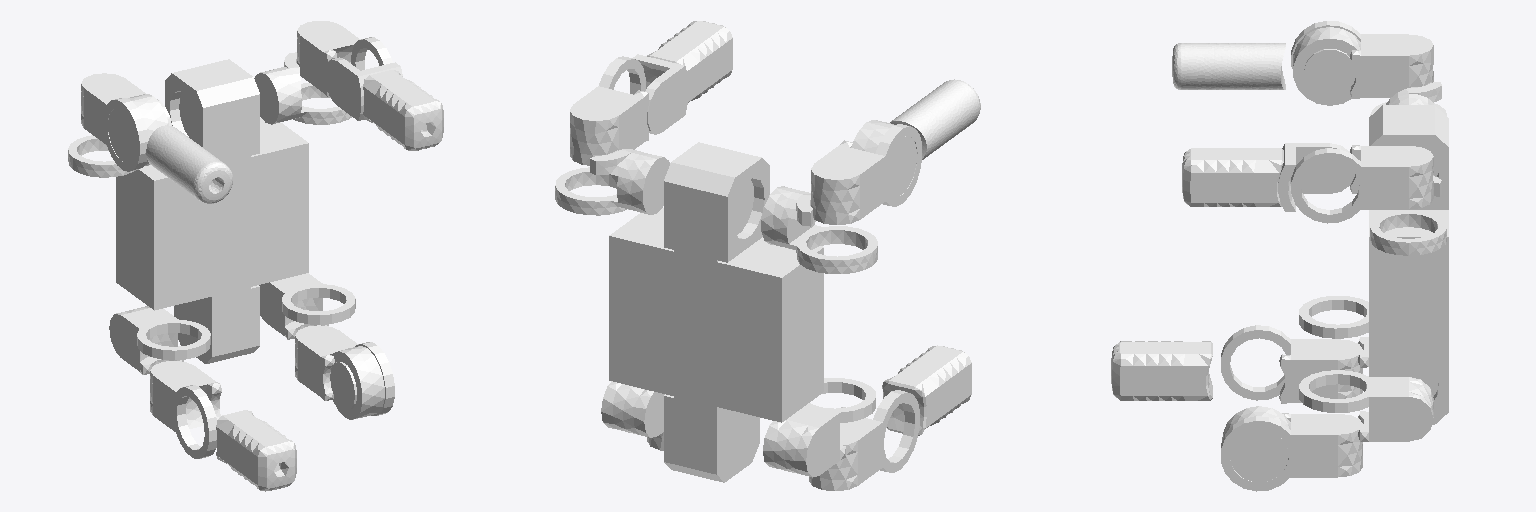
--- What the picture shows (computed from the rendered views, not written in the file) ---
The picture shows the robot from 3 angles, left to right: view 1: azimuth 30°, elevation 25°; view 2: azimuth 150°, elevation 25°; view 3: azimuth 270°, elevation 25°; orthographic projection.
Model robot with 33 links and 32 joints (12 revolute, 20 fixed), rooted at body, posed every joint at zero.
Links seen in each view (by area): view 1: body, rb_thigh, rb_shank, lf_shank, rb_hip, lb_hip, rf_shank, rf_thigh, lb_thigh, lf_thigh, lf_hip, lb_shank_motor (+6 smaller); view 2: body, rf_thigh, lf_thigh, rb_hip, rf_hip, lf_hip, rb_thigh, rb_shank, lf_shank, rf_shank, rf_hip_board, lf_shank_board (+4 smaller); view 3: body, lf_thigh, lb_thigh, lb_hip, rb_shank, lf_shank, rb_thigh, rf_shank, rf_thigh, rf_shank_motor, lb_shank_motor, lf_hip (+5 smaller).
Link boxes in pixels (x1,y1,x2,y2): body: [116, 61, 308, 363]; rb_thigh: [150, 361, 221, 458]; rb_shank: [216, 410, 296, 491]; lf_shank: [363, 70, 443, 150]; rb_hip: [109, 306, 210, 374]; lb_hip: [259, 273, 355, 339]; rf_shank: [146, 125, 232, 203]; rf_thigh: [81, 73, 148, 171]; lb_thigh: [295, 325, 394, 415]; lf_thigh: [297, 21, 392, 96]; lf_hip: [254, 52, 351, 124]; lb_shank_motor: [330, 346, 384, 419]; body: [609, 145, 823, 482]; rf_thigh: [811, 124, 921, 224]; lf_thigh: [570, 56, 649, 165]; rb_hip: [763, 378, 875, 477]; rf_hip: [761, 186, 877, 273]; lf_hip: [555, 149, 669, 215]; rb_thigh: [809, 390, 919, 490]; rb_shank: [882, 345, 971, 435]; lf_shank: [647, 21, 732, 102]; rf_shank: [890, 79, 980, 159]; rf_hip_board: [717, 155, 769, 262]; lf_shank_board: [633, 54, 688, 134]; body: [1369, 110, 1448, 396]; lf_thigh: [1291, 145, 1433, 223]; lb_thigh: [1221, 413, 1362, 491]; lb_hip: [1299, 370, 1433, 441]; rb_shank: [1111, 341, 1212, 400]; lf_shank: [1182, 148, 1283, 206]; rb_thigh: [1221, 325, 1362, 403]; rf_shank: [1172, 43, 1285, 89]; rf_thigh: [1291, 21, 1433, 98]; rf_shank_motor: [1293, 27, 1360, 105]; lb_shank_motor: [1222, 406, 1290, 481]; lf_hip: [1370, 175, 1446, 255].
Size in the robot's own frame: 0.361 by 0.3581 by 0.4178 metres.
18 mesh visuals loaded from 33 distinct referenced files (18 OBJ); not drawn: 15 (reference not matched to a file when rendering).

URDF robot description (robot):
<?xml version='1.0' encoding='UTF-8'?>
<robot name="robot">
  <link name="body">
    <inertial>
      <origin xyz="0.0 0.0 0.0" rpy="0.0 0.0 0.0"/>
      <mass value="1.0196898000000187"/>
      <inertia ixx="0.008485755511900806" ixy="9.44441736189342e-21" ixz="-1.322218430663828e-16" iyy="0.010755228463150602" iyz="-3.667695375376558e-20" izz="0.004121125018749809"/>
    </inertial>
    <visual>
      <origin xyz="0.0 0.0 0.0" rpy="0.0 0.0 0.0"/>
      <geometry>
        <mesh filename="mesh/body.obj"/>
      </geometry>
      <material name="#ffffffff">
        <color rgba="1 1 1 1"/>
      </material>
    </visual>
    <collision>
      <origin xyz="0.0 0.0 0.0" rpy="0.0 0.0 0.0"/>
      <geometry>
        <mesh filename="mesh/body.obj"/>
      </geometry>
    </collision>
  </link>
  <link name="lf_hip_board">
    <inertial>
      <origin xyz="0.0 0.0 0.0" rpy="0.0 0.0 0.0"/>
      <mass value="0.008725226571447621"/>
      <inertia ixx="1.5000064084470432e-05" ixy="1.3648480107124957e-23" ixz="-4.192813088908787e-23" iyy="7.301834886894701e-06" iyz="1.777794129836735e-22" izz="7.907634635290474e-06"/>
    </inertial>
    <visual>
      <origin xyz="0.0 0.0 0.0" rpy="0.0 0.0 0.0"/>
      <geometry>
        <mesh filename="mesh/lf_hip_board.obj"/>
      </geometry>
      <material name="#ffffffff">
        <color rgba="1 1 1 1"/>
      </material>
    </visual>
    <collision>
      <origin xyz="0.0 0.0 0.0" rpy="0.0 0.0 0.0"/>
      <geometry>
        <mesh filename="mesh/lf_hip_board.obj"/>
      </geometry>
    </collision>
  </link>
  <link name="lf_hip_motor">
    <inertial>
      <origin xyz="0.0 0.0 0.0" rpy="0.0 0.0 0.0"/>
      <mass value="0.47999996968676256"/>
      <inertia ixx="0.00033537419501531124" ixy="1.8058235803533032e-08" ixz="1.946249097096912e-21" iyy="0.00023196277740878066" iyz="-5.234141687550622e-21" izz="0.00023212625467569964"/>
    </inertial>
    <visual>
      <origin xyz="0.0 0.0 0.0" rpy="0.0 0.0 0.0"/>
      <geometry>
        <mesh filename="mesh/lf_hip_motor.obj"/>
      </geometry>
      <material name="#ffffffff">
        <color rgba="1 1 1 1"/>
      </material>
    </visual>
    <collision>
      <origin xyz="0.0 0.0 0.0" rpy="0.0 0.0 0.0"/>
      <geometry>
        <mesh filename="mesh/lf_hip_motor.obj"/>
      </geometry>
    </collision>
  </link>
  <link name="lf_hip">
    <inertial>
      <origin xyz="0.0 0.0 0.0" rpy="0.0 0.0 0.0"/>
      <mass value="0.022572853506616163"/>
      <inertia ixx="1.4628043950933668e-05" ixy="-4.721900627891241e-06" ixz="-3.5337712296101637e-07" iyy="2.6099692210438463e-05" iyz="6.102303092002736e-07" izz="2.523335634963714e-05"/>
    </inertial>
    <visual>
      <origin xyz="0.0 0.0 0.0" rpy="0.0 0.0 0.0"/>
      <geometry>
        <mesh filename="mesh/lf_hip.obj"/>
      </geometry>
      <material name="#ffffffff">
        <color rgba="1 1 1 1"/>
      </material>
    </visual>
    <collision>
      <origin xyz="0.0 0.0 0.0" rpy="0.0 0.0 0.0"/>
      <geometry>
        <mesh filename="mesh/lf_hip.obj"/>
      </geometry>
    </collision>
  </link>
  <link name="lf_thigh_motor">
    <inertial>
      <origin xyz="0.0 0.0 0.0" rpy="0.0 0.0 0.0"/>
      <mass value="0.47999996968676256"/>
      <inertia ixx="0.00033537419501531124" ixy="1.8058235803533032e-08" ixz="1.946249097096912e-21" iyy="0.00023196277740878066" iyz="-5.234141687550622e-21" izz="0.00023212625467569964"/>
    </inertial>
    <visual>
      <origin xyz="0.0 0.0 0.0" rpy="0.0 0.0 0.0"/>
      <geometry>
        <mesh filename="mesh/lf_thigh_motor.obj"/>
      </geometry>
      <material name="#ffffffff">
        <color rgba="1 1 1 1"/>
      </material>
    </visual>
    <collision>
      <origin xyz="0.0 0.0 0.0" rpy="0.0 0.0 0.0"/>
      <geometry>
        <mesh filename="mesh/lf_thigh_motor.obj"/>
      </geometry>
    </collision>
  </link>
  <link name="lf_thigh">
    <inertial>
      <origin xyz="0.0 0.0 0.0" rpy="0.0 0.0 0.0"/>
      <mass value="0.036696481109002595"/>
      <inertia ixx="4.622587744859162e-05" ixy="1.4725018988049434e-09" ixz="6.876798986521272e-10" iyy="4.7178973972743224e-05" iyz="5.075776983802486e-06" izz="1.9185661977166144e-05"/>
    </inertial>
    <visual>
      <origin xyz="0.0 0.0 0.0" rpy="0.0 0.0 0.0"/>
      <geometry>
        <mesh filename="mesh/lf_thigh.obj"/>
      </geometry>
      <material name="#ffffffff">
        <color rgba="1 1 1 1"/>
      </material>
    </visual>
    <collision>
      <origin xyz="0.0 0.0 0.0" rpy="0.0 0.0 0.0"/>
      <geometry>
        <mesh filename="mesh/lf_thigh.obj"/>
      </geometry>
    </collision>
  </link>
  <link name="lf_shank_motor">
    <inertial>
      <origin xyz="0.0 0.0 0.0" rpy="0.0 0.0 0.0"/>
      <mass value="0.47999996968676256"/>
      <inertia ixx="0.00033537419501531124" ixy="1.8058235803533032e-08" ixz="1.946249097096912e-21" iyy="0.00023196277740878066" iyz="-5.234141687550622e-21" izz="0.00023212625467569964"/>
    </inertial>
    <visual>
      <origin xyz="0.0 0.0 0.0" rpy="0.0 0.0 0.0"/>
      <geometry>
        <mesh filename="mesh/lf_shank_motor.obj"/>
      </geometry>
      <material name="#ffffffff">
        <color rgba="1 1 1 1"/>
      </material>
    </visual>
    <collision>
      <origin xyz="0.0 0.0 0.0" rpy="0.0 0.0 0.0"/>
      <geometry>
        <mesh filename="mesh/lf_shank_motor.obj"/>
      </geometry>
    </collision>
  </link>
  <link name="lf_shank_board">
    <inertial>
      <origin xyz="0.0 0.0 0.0" rpy="0.0 0.0 0.0"/>
      <mass value="0.056098890610631585"/>
      <inertia ixx="4.3107530323764116e-05" ixy="-1.0206178393298328e-08" ixz="-1.1593919601266583e-05" iyy="4.374223625484103e-05" iyz="-6.692296060306e-10" izz="2.7647051296376768e-05"/>
    </inertial>
    <visual>
      <origin xyz="0.0 0.0 0.0" rpy="0.0 0.0 0.0"/>
      <geometry>
        <mesh filename="mesh/lf_shank_board.obj"/>
      </geometry>
      <material name="#ffffffff">
        <color rgba="1 1 1 1"/>
      </material>
    </visual>
    <collision>
      <origin xyz="0.0 0.0 0.0" rpy="0.0 0.0 0.0"/>
      <geometry>
        <mesh filename="mesh/lf_shank_board.obj"/>
      </geometry>
    </collision>
  </link>
  <link name="lf_shank">
    <inertial>
      <origin xyz="0.0 0.0 0.0" rpy="0.0 0.0 0.0"/>
      <mass value="0.043853773038341336"/>
      <inertia ixx="4.858260799731374e-05" ixy="6.748426215436112e-10" ixz="-1.3480763788086625e-08" iyy="4.652833332509344e-05" iyz="-1.0037779117800898e-09" izz="1.937056536520672e-05"/>
    </inertial>
    <visual>
      <origin xyz="0.0 0.0 0.0" rpy="0.0 0.0 0.0"/>
      <geometry>
        <mesh filename="mesh/lf_shank.obj"/>
      </geometry>
      <material name="#ffffffff">
        <color rgba="1 1 1 1"/>
      </material>
    </visual>
    <collision>
      <origin xyz="0.0 0.0 0.0" rpy="0.0 0.0 0.0"/>
      <geometry>
        <mesh filename="mesh/lf_shank.obj"/>
      </geometry>
    </collision>
  </link>
  <link name="rf_hip_board">
    <inertial>
      <origin xyz="0.0 0.0 0.0" rpy="0.0 0.0 0.0"/>
      <mass value="0.008725226571447621"/>
      <inertia ixx="1.500006408447043e-05" ixy="3.639594695233322e-23" ixz="3.5716555942556335e-23" iyy="7.301834886894701e-06" iyz="-1.7777941298367348e-22" izz="7.907634635290474e-06"/>
    </inertial>
    <visual>
      <origin xyz="0.0 0.0 0.0" rpy="0.0 0.0 0.0"/>
      <geometry>
        <mesh filename="mesh/rf_hip_board.obj"/>
      </geometry>
      <material name="#ffffffff">
        <color rgba="1 1 1 1"/>
      </material>
    </visual>
    <collision>
      <origin xyz="0.0 0.0 0.0" rpy="0.0 0.0 0.0"/>
      <geometry>
        <mesh filename="mesh/rf_hip_board.obj"/>
      </geometry>
    </collision>
  </link>
  <link name="rf_hip_motor">
    <inertial>
      <origin xyz="0.0 0.0 0.0" rpy="0.0 0.0 0.0"/>
      <mass value="0.47999996968676256"/>
      <inertia ixx="0.00033537419501531124" ixy="1.8058235803533032e-08" ixz="1.946249097096912e-21" iyy="0.00023196277740878066" iyz="-5.234141687550622e-21" izz="0.00023212625467569964"/>
    </inertial>
    <visual>
      <origin xyz="0.0 0.0 0.0" rpy="0.0 0.0 0.0"/>
      <geometry>
        <mesh filename="mesh/rf_hip_motor.obj"/>
      </geometry>
      <material name="#ffffffff">
        <color rgba="1 1 1 1"/>
      </material>
    </visual>
    <collision>
      <origin xyz="0.0 0.0 0.0" rpy="0.0 0.0 0.0"/>
      <geometry>
        <mesh filename="mesh/rf_hip_motor.obj"/>
      </geometry>
    </collision>
  </link>
  <link name="rf_hip">
    <inertial>
      <origin xyz="0.0 0.0 0.0" rpy="0.0 0.0 0.0"/>
      <mass value="0.022568602179679133"/>
      <inertia ixx="1.4622880604016852e-05" ixy="4.722121537147312e-06" ixz="-3.5347249140432666e-07" iyy="2.6093336600158844e-05" iyz="-6.070964090393777e-07" izz="2.5231089455130677e-05"/>
    </inertial>
    <visual>
      <origin xyz="0.0 0.0 0.0" rpy="0.0 0.0 0.0"/>
      <geometry>
        <mesh filename="mesh/rf_hip.obj"/>
      </geometry>
      <material name="#ffffffff">
        <color rgba="1 1 1 1"/>
      </material>
    </visual>
    <collision>
      <origin xyz="0.0 0.0 0.0" rpy="0.0 0.0 0.0"/>
      <geometry>
        <mesh filename="mesh/rf_hip.obj"/>
      </geometry>
    </collision>
  </link>
  <link name="rf_thigh_motor">
    <inertial>
      <origin xyz="0.0 0.0 0.0" rpy="0.0 0.0 0.0"/>
      <mass value="0.47999996968676256"/>
      <inertia ixx="0.00033537419501531124" ixy="1.8058235803533032e-08" ixz="1.946249097096912e-21" iyy="0.00023196277740878066" iyz="-5.234141687550622e-21" izz="0.00023212625467569964"/>
    </inertial>
    <visual>
      <origin xyz="0.0 0.0 0.0" rpy="0.0 0.0 0.0"/>
      <geometry>
        <mesh filename="mesh/rf_thigh_motor.obj"/>
      </geometry>
      <material name="#ffffffff">
        <color rgba="1 1 1 1"/>
      </material>
    </visual>
    <collision>
      <origin xyz="0.0 0.0 0.0" rpy="0.0 0.0 0.0"/>
      <geometry>
        <mesh filename="mesh/rf_thigh_motor.obj"/>
      </geometry>
    </collision>
  </link>
  <link name="rf_thigh">
    <inertial>
      <origin xyz="0.0 0.0 0.0" rpy="0.0 0.0 0.0"/>
      <mass value="0.036696481476572916"/>
      <inertia ixx="4.622588186636237e-05" ixy="-1.4839436353841302e-09" ixz="7.897681135492148e-10" iyy="4.717898180853976e-05" iyz="-5.075778166769035e-06" izz="1.9185661723241435e-05"/>
    </inertial>
    <visual>
      <origin xyz="0.0 0.0 0.0" rpy="0.0 0.0 0.0"/>
      <geometry>
        <mesh filename="mesh/rf_thigh.obj"/>
      </geometry>
      <material name="#ffffffff">
        <color rgba="1 1 1 1"/>
      </material>
    </visual>
    <collision>
      <origin xyz="0.0 0.0 0.0" rpy="0.0 0.0 0.0"/>
      <geometry>
        <mesh filename="mesh/rf_thigh.obj"/>
      </geometry>
    </collision>
  </link>
  <link name="rf_shank_motor">
    <inertial>
      <origin xyz="0.0 0.0 0.0" rpy="0.0 0.0 0.0"/>
      <mass value="0.47999996968676256"/>
      <inertia ixx="0.00033537419501531124" ixy="1.8058235803533032e-08" ixz="1.946249097096912e-21" iyy="0.00023196277740878066" iyz="-5.234141687550622e-21" izz="0.00023212625467569964"/>
    </inertial>
    <visual>
      <origin xyz="0.0 0.0 0.0" rpy="0.0 0.0 0.0"/>
      <geometry>
        <mesh filename="mesh/rf_shank_motor.obj"/>
      </geometry>
      <material name="#ffffffff">
        <color rgba="1 1 1 1"/>
      </material>
    </visual>
    <collision>
      <origin xyz="0.0 0.0 0.0" rpy="0.0 0.0 0.0"/>
      <geometry>
        <mesh filename="mesh/rf_shank_motor.obj"/>
      </geometry>
    </collision>
  </link>
  <link name="rf_shank_board">
    <inertial>
      <origin xyz="0.0 0.0 0.0" rpy="0.0 0.0 0.0"/>
      <mass value="0.056098890610631585"/>
      <inertia ixx="4.3107530323764116e-05" ixy="-1.0206178393298328e-08" ixz="-1.1593919601266583e-05" iyy="4.374223625484103e-05" iyz="-6.692296060306e-10" izz="2.7647051296376768e-05"/>
    </inertial>
    <visual>
      <origin xyz="0.0 0.0 0.0" rpy="0.0 0.0 0.0"/>
      <geometry>
        <mesh filename="mesh/rf_shank_board.obj"/>
      </geometry>
      <material name="#ffffffff">
        <color rgba="1 1 1 1"/>
      </material>
    </visual>
    <collision>
      <origin xyz="0.0 0.0 0.0" rpy="0.0 0.0 0.0"/>
      <geometry>
        <mesh filename="mesh/rf_shank_board.obj"/>
      </geometry>
    </collision>
  </link>
  <link name="rf_shank">
    <inertial>
      <origin xyz="0.0 0.0 0.0" rpy="0.0 0.0 0.0"/>
      <mass value="0.043853773038341336"/>
      <inertia ixx="4.858260799731374e-05" ixy="6.748426215436112e-10" ixz="-1.3480763788086625e-08" iyy="4.652833332509344e-05" iyz="-1.0037779117800898e-09" izz="1.937056536520672e-05"/>
    </inertial>
    <visual>
      <origin xyz="0.0 0.0 0.0" rpy="0.0 0.0 0.0"/>
      <geometry>
        <mesh filename="mesh/rf_shank.obj"/>
      </geometry>
      <material name="#ffffffff">
        <color rgba="1 1 1 1"/>
      </material>
    </visual>
    <collision>
      <origin xyz="0.0 0.0 0.0" rpy="0.0 0.0 0.0"/>
      <geometry>
        <mesh filename="mesh/rf_shank.obj"/>
      </geometry>
    </collision>
  </link>
  <link name="lb_hip_board">
    <inertial>
      <origin xyz="0.0 0.0 0.0" rpy="0.0 0.0 0.0"/>
      <mass value="0.008725226571447621"/>
      <inertia ixx="1.500006408447043e-05" ixy="3.639594695233322e-23" ixz="3.5716555942556335e-23" iyy="7.301834886894701e-06" iyz="-1.7777941298367348e-22" izz="7.907634635290474e-06"/>
    </inertial>
    <visual>
      <origin xyz="0.0 0.0 0.0" rpy="0.0 0.0 0.0"/>
      <geometry>
        <mesh filename="mesh/lb_hip_board.obj"/>
      </geometry>
      <material name="#ffffffff">
        <color rgba="1 1 1 1"/>
      </material>
    </visual>
    <collision>
      <origin xyz="0.0 0.0 0.0" rpy="0.0 0.0 0.0"/>
      <geometry>
        <mesh filename="mesh/lb_hip_board.obj"/>
      </geometry>
    </collision>
  </link>
  <link name="lb_hip_motor">
    <inertial>
      <origin xyz="0.0 0.0 0.0" rpy="0.0 0.0 0.0"/>
      <mass value="0.47999996968676256"/>
      <inertia ixx="0.00033537419501531124" ixy="1.8058235803533032e-08" ixz="1.946249097096912e-21" iyy="0.00023196277740878066" iyz="-5.234141687550622e-21" izz="0.00023212625467569964"/>
    </inertial>
    <visual>
      <origin xyz="0.0 0.0 0.0" rpy="0.0 0.0 0.0"/>
      <geometry>
        <mesh filename="mesh/lb_hip_motor.obj"/>
      </geometry>
      <material name="#ffffffff">
        <color rgba="1 1 1 1"/>
      </material>
    </visual>
    <collision>
      <origin xyz="0.0 0.0 0.0" rpy="0.0 0.0 0.0"/>
      <geometry>
        <mesh filename="mesh/lb_hip_motor.obj"/>
      </geometry>
    </collision>
  </link>
  <link name="lb_hip">
    <inertial>
      <origin xyz="0.0 0.0 0.0" rpy="0.0 0.0 0.0"/>
      <mass value="0.032732069822455925"/>
      <inertia ixx="3.831935459007559e-05" ixy="-1.4839525333697381e-09" ixz="7.485451598135901e-10" iyy="3.938988752910462e-05" iyz="-4.753709156741053e-06" izz="1.7416351774227207e-05"/>
    </inertial>
    <visual>
      <origin xyz="0.0 0.0 0.0" rpy="0.0 0.0 0.0"/>
      <geometry>
        <mesh filename="mesh/lb_hip.obj"/>
      </geometry>
      <material name="#ffffffff">
        <color rgba="1 1 1 1"/>
      </material>
    </visual>
    <collision>
      <origin xyz="0.0 0.0 0.0" rpy="0.0 0.0 0.0"/>
      <geometry>
        <mesh filename="mesh/lb_hip.obj"/>
      </geometry>
    </collision>
  </link>
  <link name="lb_thigh_motor">
    <inertial>
      <origin xyz="0.0 0.0 0.0" rpy="0.0 0.0 0.0"/>
      <mass value="0.47999996968676256"/>
      <inertia ixx="0.00033537419501531124" ixy="1.8058235803533032e-08" ixz="1.946249097096912e-21" iyy="0.00023196277740878066" iyz="-5.234141687550622e-21" izz="0.00023212625467569964"/>
    </inertial>
    <visual>
      <origin xyz="0.0 0.0 0.0" rpy="0.0 0.0 0.0"/>
      <geometry>
        <mesh filename="mesh/lb_thigh_motor.obj"/>
      </geometry>
      <material name="#ffffffff">
        <color rgba="1 1 1 1"/>
      </material>
    </visual>
    <collision>
      <origin xyz="0.0 0.0 0.0" rpy="0.0 0.0 0.0"/>
      <geometry>
        <mesh filename="mesh/lb_thigh_motor.obj"/>
      </geometry>
    </collision>
  </link>
  <link name="lb_thigh">
    <inertial>
      <origin xyz="0.0 0.0 0.0" rpy="0.0 0.0 0.0"/>
      <mass value="0.036696481476572916"/>
      <inertia ixx="4.622588186636237e-05" ixy="-1.4839436353841302e-09" ixz="7.897681135492148e-10" iyy="4.717898180853976e-05" iyz="-5.075778166769035e-06" izz="1.9185661723241435e-05"/>
    </inertial>
    <visual>
      <origin xyz="0.0 0.0 0.0" rpy="0.0 0.0 0.0"/>
      <geometry>
        <mesh filename="mesh/lb_thigh.obj"/>
      </geometry>
      <material name="#ffffffff">
        <color rgba="1 1 1 1"/>
      </material>
    </visual>
    <collision>
      <origin xyz="0.0 0.0 0.0" rpy="0.0 0.0 0.0"/>
      <geometry>
        <mesh filename="mesh/lb_thigh.obj"/>
      </geometry>
    </collision>
  </link>
  <link name="lb_shank_motor">
    <inertial>
      <origin xyz="0.0 0.0 0.0" rpy="0.0 0.0 0.0"/>
      <mass value="0.47999996968676256"/>
      <inertia ixx="0.00033537419501531124" ixy="1.8058235803533032e-08" ixz="1.946249097096912e-21" iyy="0.00023196277740878066" iyz="-5.234141687550622e-21" izz="0.00023212625467569964"/>
    </inertial>
    <visual>
      <origin xyz="0.0 0.0 0.0" rpy="0.0 0.0 0.0"/>
      <geometry>
        <mesh filename="mesh/lb_shank_motor.obj"/>
      </geometry>
      <material name="#ffffffff">
        <color rgba="1 1 1 1"/>
      </material>
    </visual>
    <collision>
      <origin xyz="0.0 0.0 0.0" rpy="0.0 0.0 0.0"/>
      <geometry>
        <mesh filename="mesh/lb_shank_motor.obj"/>
      </geometry>
    </collision>
  </link>
  <link name="lb_shank_board">
    <inertial>
      <origin xyz="0.0 0.0 0.0" rpy="0.0 0.0 0.0"/>
      <mass value="0.056098890610631585"/>
      <inertia ixx="4.3107530323764116e-05" ixy="-1.0206178393298328e-08" ixz="-1.1593919601266583e-05" iyy="4.374223625484103e-05" iyz="-6.692296060306e-10" izz="2.7647051296376768e-05"/>
    </inertial>
    <visual>
      <origin xyz="0.0 0.0 0.0" rpy="0.0 0.0 0.0"/>
      <geometry>
        <mesh filename="mesh/lb_shank_board.obj"/>
      </geometry>
      <material name="#ffffffff">
        <color rgba="1 1 1 1"/>
      </material>
    </visual>
    <collision>
      <origin xyz="0.0 0.0 0.0" rpy="0.0 0.0 0.0"/>
      <geometry>
        <mesh filename="mesh/lb_shank_board.obj"/>
      </geometry>
    </collision>
  </link>
  <link name="lb_shank">
    <inertial>
      <origin xyz="0.0 0.0 0.0" rpy="0.0 0.0 0.0"/>
      <mass value="0.043853773038341336"/>
      <inertia ixx="4.858260799731374e-05" ixy="6.748426215436112e-10" ixz="-1.3480763788086625e-08" iyy="4.652833332509344e-05" iyz="-1.0037779117800898e-09" izz="1.937056536520672e-05"/>
    </inertial>
    <visual>
      <origin xyz="0.0 0.0 0.0" rpy="0.0 0.0 0.0"/>
      <geometry>
        <mesh filename="mesh/lb_shank.obj"/>
      </geometry>
      <material name="#ffffffff">
        <color rgba="1 1 1 1"/>
      </material>
    </visual>
    <collision>
      <origin xyz="0.0 0.0 0.0" rpy="0.0 0.0 0.0"/>
      <geometry>
        <mesh filename="mesh/lb_shank.obj"/>
      </geometry>
    </collision>
  </link>
  <link name="rb_hip_board">
    <inertial>
      <origin xyz="0.0 0.0 0.0" rpy="0.0 0.0 0.0"/>
      <mass value="0.008725226571447621"/>
      <inertia ixx="1.5000064084470432e-05" ixy="1.3648480107124957e-23" ixz="-4.192813088908787e-23" iyy="7.301834886894701e-06" iyz="1.777794129836735e-22" izz="7.907634635290474e-06"/>
    </inertial>
    <visual>
      <origin xyz="0.0 0.0 0.0" rpy="0.0 0.0 0.0"/>
      <geometry>
        <mesh filename="mesh/rb_hip_board.obj"/>
      </geometry>
      <material name="#ffffffff">
        <color rgba="1 1 1 1"/>
      </material>
    </visual>
    <collision>
      <origin xyz="0.0 0.0 0.0" rpy="0.0 0.0 0.0"/>
      <geometry>
        <mesh filename="mesh/rb_hip_board.obj"/>
      </geometry>
    </collision>
  </link>
  <link name="rb_hip_motor">
    <inertial>
      <origin xyz="0.0 0.0 0.0" rpy="0.0 0.0 0.0"/>
      <mass value="0.47999996968676256"/>
      <inertia ixx="0.00033537419501531124" ixy="1.8058235803533032e-08" ixz="1.946249097096912e-21" iyy="0.00023196277740878066" iyz="-5.234141687550622e-21" izz="0.00023212625467569964"/>
    </inertial>
    <visual>
      <origin xyz="0.0 0.0 0.0" rpy="0.0 0.0 0.0"/>
      <geometry>
        <mesh filename="mesh/rb_hip_motor.obj"/>
      </geometry>
      <material name="#ffffffff">
        <color rgba="1 1 1 1"/>
      </material>
    </visual>
    <collision>
      <origin xyz="0.0 0.0 0.0" rpy="0.0 0.0 0.0"/>
      <geometry>
        <mesh filename="mesh/rb_hip_motor.obj"/>
      </geometry>
    </collision>
  </link>
  <link name="rb_hip">
    <inertial>
      <origin xyz="0.0 0.0 0.0" rpy="0.0 0.0 0.0"/>
      <mass value="0.032732069454885604"/>
      <inertia ixx="3.8319351357792006e-05" ixy="1.4653883727949742e-09" ixz="6.17237220616505e-10" iyy="3.938988031814184e-05" iyz="4.75370553839502e-06" izz="1.7416352582622428e-05"/>
    </inertial>
    <visual>
      <origin xyz="0.0 0.0 0.0" rpy="0.0 0.0 0.0"/>
      <geometry>
        <mesh filename="mesh/rb_hip.obj"/>
      </geometry>
      <material name="#ffffffff">
        <color rgba="1 1 1 1"/>
      </material>
    </visual>
    <collision>
      <origin xyz="0.0 0.0 0.0" rpy="0.0 0.0 0.0"/>
      <geometry>
        <mesh filename="mesh/rb_hip.obj"/>
      </geometry>
    </collision>
  </link>
  <link name="rb_thigh_motor">
    <inertial>
      <origin xyz="0.0 0.0 0.0" rpy="0.0 0.0 0.0"/>
      <mass value="0.47999996968676256"/>
      <inertia ixx="0.00033537419501531124" ixy="1.8058235803533032e-08" ixz="1.946249097096912e-21" iyy="0.00023196277740878066" iyz="-5.234141687550622e-21" izz="0.00023212625467569964"/>
    </inertial>
    <visual>
      <origin xyz="0.0 0.0 0.0" rpy="0.0 0.0 0.0"/>
      <geometry>
        <mesh filename="mesh/rb_thigh_motor.obj"/>
      </geometry>
      <material name="#ffffffff">
        <color rgba="1 1 1 1"/>
      </material>
    </visual>
    <collision>
      <origin xyz="0.0 0.0 0.0" rpy="0.0 0.0 0.0"/>
      <geometry>
        <mesh filename="mesh/rb_thigh_motor.obj"/>
      </geometry>
    </collision>
  </link>
  <link name="rb_thigh">
    <inertial>
      <origin xyz="0.0 0.0 0.0" rpy="0.0 0.0 0.0"/>
      <mass value="0.036696481109002595"/>
      <inertia ixx="4.622587744859162e-05" ixy="1.4725018988049434e-09" ixz="6.876798986521272e-10" iyy="4.7178973972743224e-05" iyz="5.075776983802486e-06" izz="1.9185661977166144e-05"/>
    </inertial>
    <visual>
      <origin xyz="0.0 0.0 0.0" rpy="0.0 0.0 0.0"/>
      <geometry>
        <mesh filename="mesh/rb_thigh.obj"/>
      </geometry>
      <material name="#ffffffff">
        <color rgba="1 1 1 1"/>
      </material>
    </visual>
    <collision>
      <origin xyz="0.0 0.0 0.0" rpy="0.0 0.0 0.0"/>
      <geometry>
        <mesh filename="mesh/rb_thigh.obj"/>
      </geometry>
    </collision>
  </link>
  <link name="rb_shank_motor">
    <inertial>
      <origin xyz="0.0 0.0 0.0" rpy="0.0 0.0 0.0"/>
      <mass value="0.47999996968676256"/>
      <inertia ixx="0.00033537419501531124" ixy="1.8058235803533032e-08" ixz="1.946249097096912e-21" iyy="0.00023196277740878066" iyz="-5.234141687550622e-21" izz="0.00023212625467569964"/>
    </inertial>
    <visual>
      <origin xyz="0.0 0.0 0.0" rpy="0.0 0.0 0.0"/>
      <geometry>
        <mesh filename="mesh/rb_shank_motor.obj"/>
      </geometry>
      <material name="#ffffffff">
        <color rgba="1 1 1 1"/>
      </material>
    </visual>
    <collision>
      <origin xyz="0.0 0.0 0.0" rpy="0.0 0.0 0.0"/>
      <geometry>
        <mesh filename="mesh/rb_shank_motor.obj"/>
      </geometry>
    </collision>
  </link>
  <link name="rb_shank_board">
    <inertial>
      <origin xyz="0.0 0.0 0.0" rpy="0.0 0.0 0.0"/>
      <mass value="0.056098890610631585"/>
      <inertia ixx="4.3107530323764116e-05" ixy="-1.0206178393298328e-08" ixz="-1.1593919601266583e-05" iyy="4.374223625484103e-05" iyz="-6.692296060306e-10" izz="2.7647051296376768e-05"/>
    </inertial>
    <visual>
      <origin xyz="0.0 0.0 0.0" rpy="0.0 0.0 0.0"/>
      <geometry>
        <mesh filename="mesh/rb_shank_board.obj"/>
      </geometry>
      <material name="#ffffffff">
        <color rgba="1 1 1 1"/>
      </material>
    </visual>
    <collision>
      <origin xyz="0.0 0.0 0.0" rpy="0.0 0.0 0.0"/>
      <geometry>
        <mesh filename="mesh/rb_shank_board.obj"/>
      </geometry>
    </collision>
  </link>
  <link name="rb_shank">
    <inertial>
      <origin xyz="0.0 0.0 0.0" rpy="0.0 0.0 0.0"/>
      <mass value="0.043853773038341336"/>
      <inertia ixx="4.858260799731374e-05" ixy="6.748426215436112e-10" ixz="-1.3480763788086625e-08" iyy="4.652833332509344e-05" iyz="-1.0037779117800898e-09" izz="1.937056536520672e-05"/>
    </inertial>
    <visual>
      <origin xyz="0.0 0.0 0.0" rpy="0.0 0.0 0.0"/>
      <geometry>
        <mesh filename="mesh/rb_shank.obj"/>
      </geometry>
      <material name="#ffffffff">
        <color rgba="1 1 1 1"/>
      </material>
    </visual>
    <collision>
      <origin xyz="0.0 0.0 0.0" rpy="0.0 0.0 0.0"/>
      <geometry>
        <mesh filename="mesh/rb_shank.obj"/>
      </geometry>
    </collision>
  </link>
  <joint name="body,lf_hip_board" type="fixed">
    <origin xyz="0.025 0.0 0.125" rpy="-1.5707963267948963 0.0 0.0"/>
    <parent link="body"/>
    <child link="lf_hip_board"/>
    <axis xyz="1 0 0"/>
    <limit effort="11" velocity="51"/>
  </joint>
  <joint name="body,rf_hip_board" type="fixed">
    <origin xyz="-0.025 0.0 0.125" rpy="1.5707963267948963 2.220446049250313e-16 3.141592653589793"/>
    <parent link="body"/>
    <child link="rf_hip_board"/>
    <axis xyz="1 0 0"/>
    <limit effort="11" velocity="51"/>
  </joint>
  <joint name="body,lb_hip_board" type="fixed">
    <origin xyz="0.025 0.0 -0.125" rpy="-1.5707963267948963 0.0 0.0"/>
    <parent link="body"/>
    <child link="lb_hip_board"/>
    <axis xyz="1 0 0"/>
    <limit effort="11" velocity="51"/>
  </joint>
  <joint name="body,rb_hip_board" type="fixed">
    <origin xyz="-0.025 0.0 -0.125" rpy="1.5707963267948963 2.220446049250313e-16 3.141592653589793"/>
    <parent link="body"/>
    <child link="rb_hip_board"/>
    <axis xyz="1 0 0"/>
    <limit effort="11" velocity="51"/>
  </joint>
  <joint name="lf_hip_board,lf_hip_motor" type="fixed">
    <origin xyz="0.0115 0.0 0.0" rpy="0.0 0.0 0.0"/>
    <parent link="lf_hip_board"/>
    <child link="lf_hip_motor"/>
    <axis xyz="1 0 0"/>
    <limit effort="11" velocity="51"/>
  </joint>
  <joint name="lf_hip_motor,lf_hip" type="revolute">
    <origin xyz="0.032 0.0 0.0" rpy="0.0 0.0 0.0"/>
    <parent link="lf_hip_motor"/>
    <child link="lf_hip"/>
    <axis xyz="1 0 0"/>
    <limit effort="11" velocity="51"/>
  </joint>
  <joint name="lf_hip,lf_thigh_motor" type="fixed">
    <origin xyz="0.07100000000000001 0.0145 0.0" rpy="0.0 0.0 -1.5707963267948963"/>
    <parent link="lf_hip"/>
    <child link="lf_thigh_motor"/>
    <axis xyz="1 0 0"/>
    <limit effort="11" velocity="51"/>
  </joint>
  <joint name="lf_thigh_motor,lf_thigh" type="revolute">
    <origin xyz="0.032 0.0 0.0" rpy="0.0 0.0 0.0"/>
    <parent link="lf_thigh_motor"/>
    <child link="lf_thigh"/>
    <axis xyz="1 0 0"/>
    <limit effort="11" velocity="51"/>
  </joint>
  <joint name="lf_thigh,lf_shank_motor" type="fixed">
    <origin xyz="0.025 0.0145 -0.0835" rpy="0.0 0.0 -1.5707963267948963"/>
    <parent link="lf_thigh"/>
    <child link="lf_shank_motor"/>
    <axis xyz="1 0 0"/>
    <limit effort="11" velocity="51"/>
  </joint>
  <joint name="lf_shank_motor,lf_shank_board" type="revolute">
    <origin xyz="0.0145 0.0 0.0" rpy="0.0 0.0 0.0"/>
    <parent link="lf_shank_motor"/>
    <child link="lf_shank_board"/>
    <axis xyz="1 0 0"/>
    <limit effort="11" velocity="51"/>
  </joint>
  <joint name="lf_shank_board,lf_shank" type="fixed">
    <origin xyz="0.0 0.0 -0.0275" rpy="0.0 0.0 3.141592653589793"/>
    <parent link="lf_shank_board"/>
    <child link="lf_shank"/>
    <axis xyz="1 0 0"/>
    <limit effort="11" velocity="51"/>
  </joint>
  <joint name="rf_hip_board,rf_hip_motor" type="fixed">
    <origin xyz="0.0115 0.0 0.0" rpy="0.0 0.0 0.0"/>
    <parent link="rf_hip_board"/>
    <child link="rf_hip_motor"/>
    <axis xyz="1 0 0"/>
    <limit effort="11" velocity="51"/>
  </joint>
  <joint name="rf_hip_motor,rf_hip" type="revolute">
    <origin xyz="0.032 0.0 0.0" rpy="0.0 0.0 0.0"/>
    <parent link="rf_hip_motor"/>
    <child link="rf_hip"/>
    <axis xyz="1 0 0"/>
    <limit effort="11" velocity="51"/>
  </joint>
  <joint name="rf_hip,rf_thigh_motor" type="fixed">
    <origin xyz="0.07100000000000001 -0.0145 0.0" rpy="0.0 0.0 1.5707963267948963"/>
    <parent link="rf_hip"/>
    <child link="rf_thigh_motor"/>
    <axis xyz="1 0 0"/>
    <limit effort="11" velocity="51"/>
  </joint>
  <joint name="rf_thigh_motor,rf_thigh" type="revolute">
    <origin xyz="0.032 0.0 0.0" rpy="0.0 0.0 0.0"/>
    <parent link="rf_thigh_motor"/>
    <child link="rf_thigh"/>
    <axis xyz="1 0 0"/>
    <limit effort="11" velocity="51"/>
  </joint>
  <joint name="rf_thigh,rf_shank_motor" type="fixed">
    <origin xyz="0.025 -0.0145 -0.0835" rpy="0.0 0.0 1.5707963267948963"/>
    <parent link="rf_thigh"/>
    <child link="rf_shank_motor"/>
    <axis xyz="1 0 0"/>
    <limit effort="11" velocity="51"/>
  </joint>
  <joint name="rf_shank_motor,rf_shank_board" type="revolute">
    <origin xyz="0.0145 0.0 0.0" rpy="0.0 0.0 0.0"/>
    <parent link="rf_shank_motor"/>
    <child link="rf_shank_board"/>
    <axis xyz="1 0 0"/>
    <limit effort="11" velocity="51"/>
  </joint>
  <joint name="rf_shank_board,rf_shank" type="fixed">
    <origin xyz="0.0 0.0 -0.0275" rpy="0.0 0.0 3.141592653589793"/>
    <parent link="rf_shank_board"/>
    <child link="rf_shank"/>
    <axis xyz="1 0 0"/>
    <limit effort="11" velocity="51"/>
  </joint>
  <joint name="lb_hip_board,lb_hip_motor" type="fixed">
    <origin xyz="0.0115 0.0 0.0" rpy="0.0 0.0 0.0"/>
    <parent link="lb_hip_board"/>
    <child link="lb_hip_motor"/>
    <axis xyz="1 0 0"/>
    <limit effort="11" velocity="51"/>
  </joint>
  <joint name="lb_hip_motor,lb_hip" type="revolute">
    <origin xyz="0.032 0.0 0.0" rpy="0.0 0.0 0.0"/>
    <parent link="lb_hip_motor"/>
    <child link="lb_hip"/>
    <axis xyz="1 0 0"/>
    <limit effort="11" velocity="51"/>
  </joint>
  <joint name="lb_hip,lb_thigh_motor" type="fixed">
    <origin xyz="0.025 -0.0145 -0.075" rpy="0.0 0.0 1.5707963267948963"/>
    <parent link="lb_hip"/>
    <child link="lb_thigh_motor"/>
    <axis xyz="1 0 0"/>
    <limit effort="11" velocity="51"/>
  </joint>
  <joint name="lb_thigh_motor,lb_thigh" type="revolute">
    <origin xyz="0.032 0.0 0.0" rpy="0.0 0.0 0.0"/>
    <parent link="lb_thigh_motor"/>
    <child link="lb_thigh"/>
    <axis xyz="1 0 0"/>
    <limit effort="11" velocity="51"/>
  </joint>
  <joint name="lb_thigh,lb_shank_motor" type="fixed">
    <origin xyz="0.025 -0.0145 -0.0835" rpy="0.0 0.0 1.5707963267948963"/>
    <parent link="lb_thigh"/>
    <child link="lb_shank_motor"/>
    <axis xyz="1 0 0"/>
    <limit effort="11" velocity="51"/>
  </joint>
  <joint name="lb_shank_motor,lb_shank_board" type="revolute">
    <origin xyz="0.0145 0.0 0.0" rpy="0.0 0.0 0.0"/>
    <parent link="lb_shank_motor"/>
    <child link="lb_shank_board"/>
    <axis xyz="1 0 0"/>
    <limit effort="11" velocity="51"/>
  </joint>
  <joint name="lb_shank_board,lb_shank" type="fixed">
    <origin xyz="0.0 0.0 -0.0275" rpy="0.0 0.0 3.141592653589793"/>
    <parent link="lb_shank_board"/>
    <child link="lb_shank"/>
    <axis xyz="1 0 0"/>
    <limit effort="11" velocity="51"/>
  </joint>
  <joint name="rb_hip_board,rb_hip_motor" type="fixed">
    <origin xyz="0.0115 0.0 0.0" rpy="0.0 0.0 0.0"/>
    <parent link="rb_hip_board"/>
    <child link="rb_hip_motor"/>
    <axis xyz="1 0 0"/>
    <limit effort="11" velocity="51"/>
  </joint>
  <joint name="rb_hip_motor,rb_hip" type="revolute">
    <origin xyz="0.032 0.0 0.0" rpy="0.0 0.0 0.0"/>
    <parent link="rb_hip_motor"/>
    <child link="rb_hip"/>
    <axis xyz="1 0 0"/>
    <limit effort="11" velocity="51"/>
  </joint>
  <joint name="rb_hip,rb_thigh_motor" type="fixed">
    <origin xyz="0.025 0.0145 -0.075" rpy="0.0 0.0 -1.5707963267948963"/>
    <parent link="rb_hip"/>
    <child link="rb_thigh_motor"/>
    <axis xyz="1 0 0"/>
    <limit effort="11" velocity="51"/>
  </joint>
  <joint name="rb_thigh_motor,rb_thigh" type="revolute">
    <origin xyz="0.032 0.0 0.0" rpy="0.0 0.0 0.0"/>
    <parent link="rb_thigh_motor"/>
    <child link="rb_thigh"/>
    <axis xyz="1 0 0"/>
    <limit effort="11" velocity="51"/>
  </joint>
  <joint name="rb_thigh,rb_shank_motor" type="fixed">
    <origin xyz="0.025 0.0145 -0.0835" rpy="0.0 0.0 -1.5707963267948963"/>
    <parent link="rb_thigh"/>
    <child link="rb_shank_motor"/>
    <axis xyz="1 0 0"/>
    <limit effort="11" velocity="51"/>
  </joint>
  <joint name="rb_shank_motor,rb_shank_board" type="revolute">
    <origin xyz="0.0145 0.0 0.0" rpy="0.0 0.0 0.0"/>
    <parent link="rb_shank_motor"/>
    <child link="rb_shank_board"/>
    <axis xyz="1 0 0"/>
    <limit effort="11" velocity="51"/>
  </joint>
  <joint name="rb_shank_board,rb_shank" type="fixed">
    <origin xyz="0.0 0.0 -0.0275" rpy="0.0 0.0 3.141592653589793"/>
    <parent link="rb_shank_board"/>
    <child link="rb_shank"/>
    <axis xyz="1 0 0"/>
    <limit effort="11" velocity="51"/>
  </joint>
</robot>
